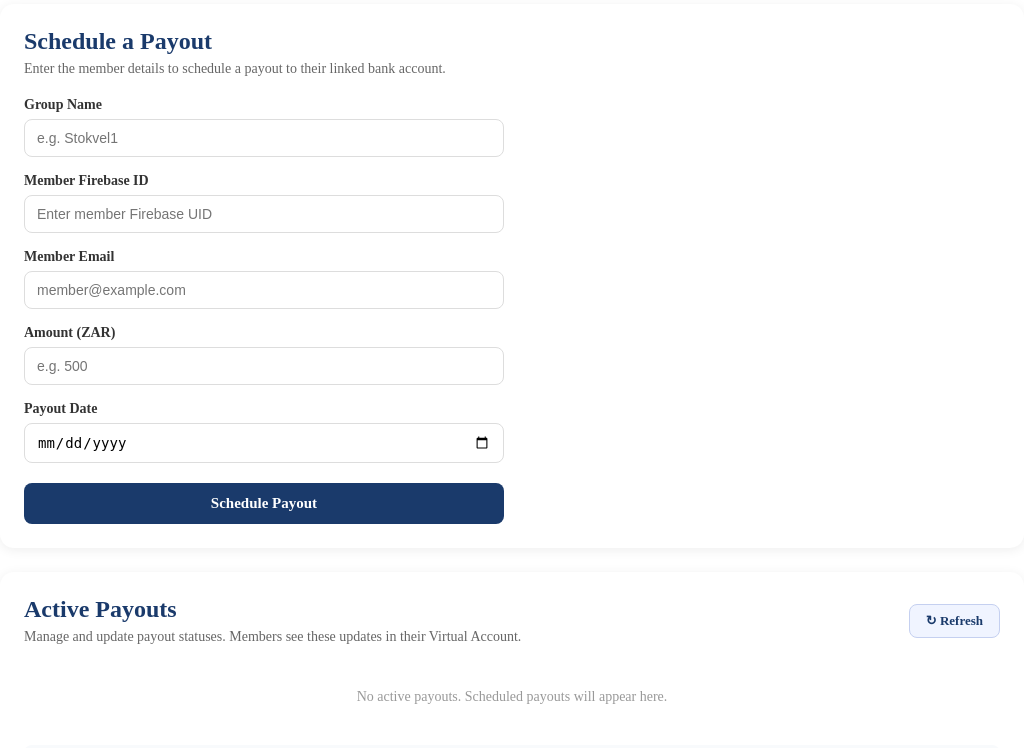
Test: Schedule Payout Component › submits form successfully
Type "G1" into the field with placeholder "e.g. Stokvel1" at [264, 138], box [24, 119, 504, 157]
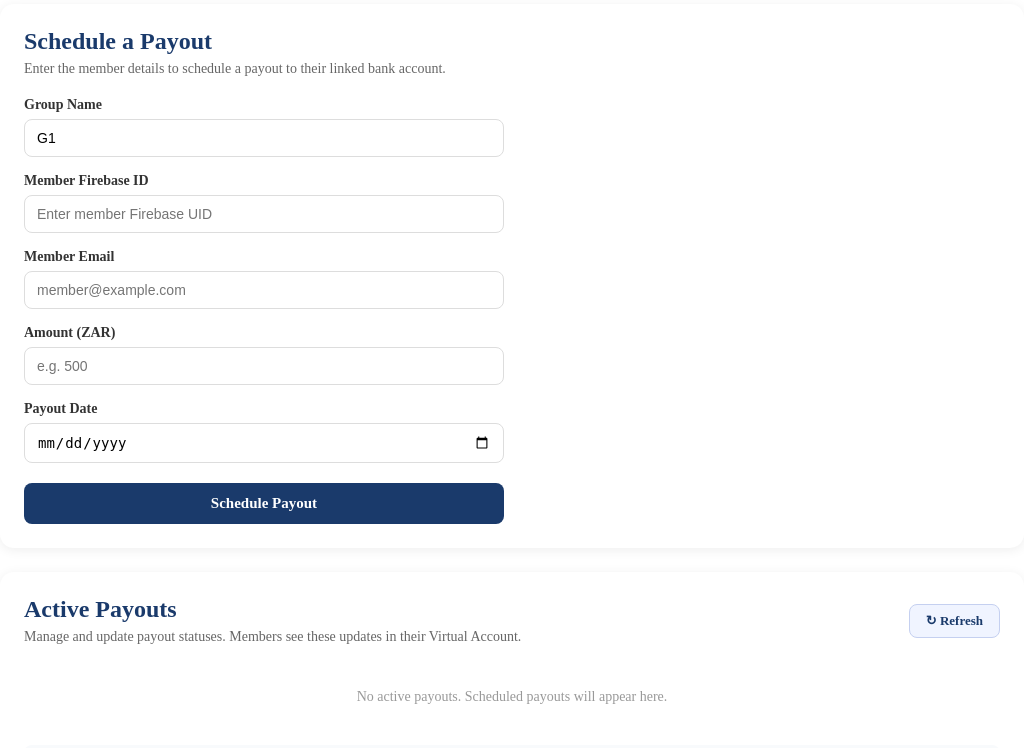
Type "123" into the field with placeholder "Enter member Firebase UID" at [264, 214], box [24, 195, 504, 233]
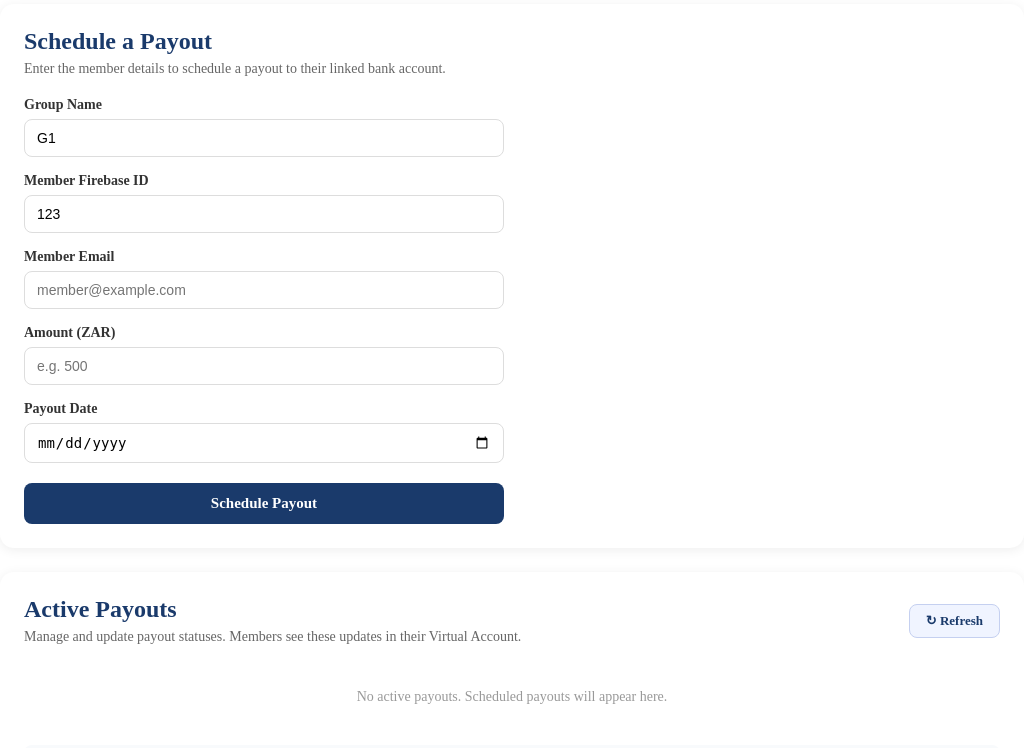
Type "t@t.com" into the field with placeholder "member@example.com" at [264, 290], box [24, 271, 504, 309]
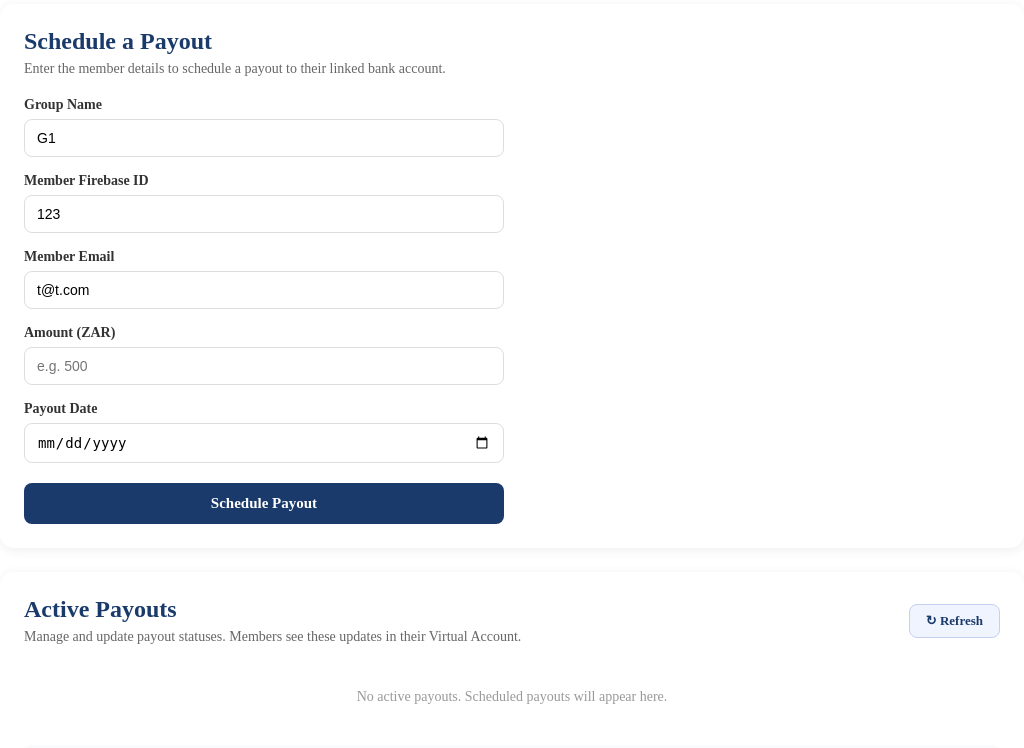
Type "100" into the number field with placeholder "e.g. 500" at [264, 366], box [24, 347, 504, 385]
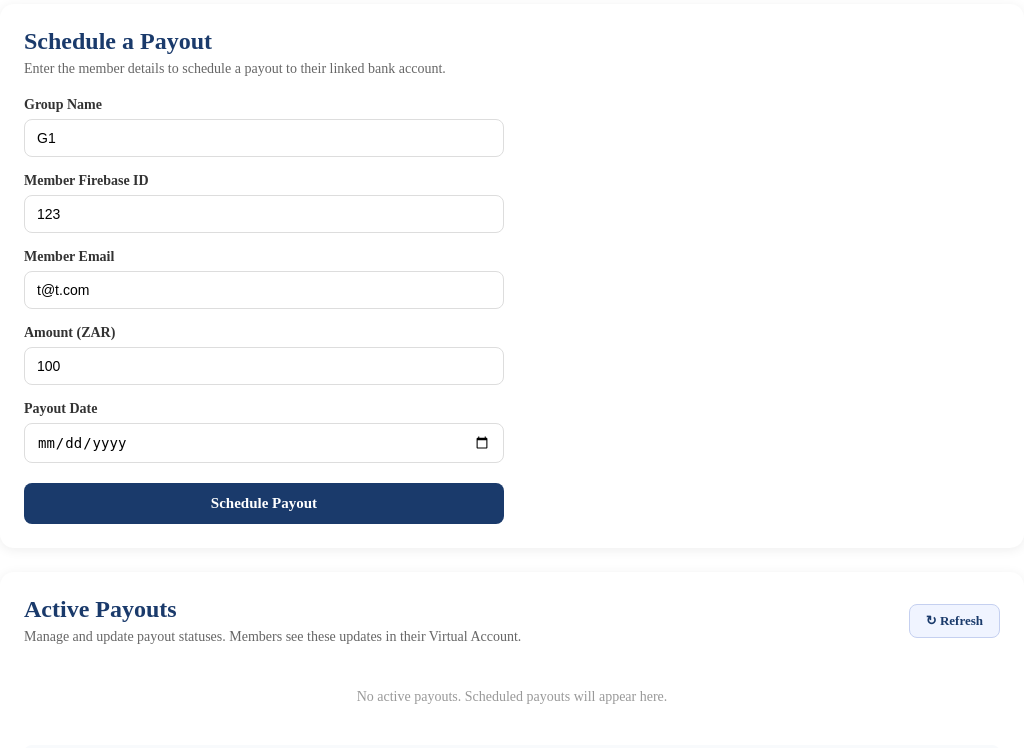
Type "2026-05-25" into the date field labelled "Payout Date" at [264, 443], box [24, 423, 504, 463]
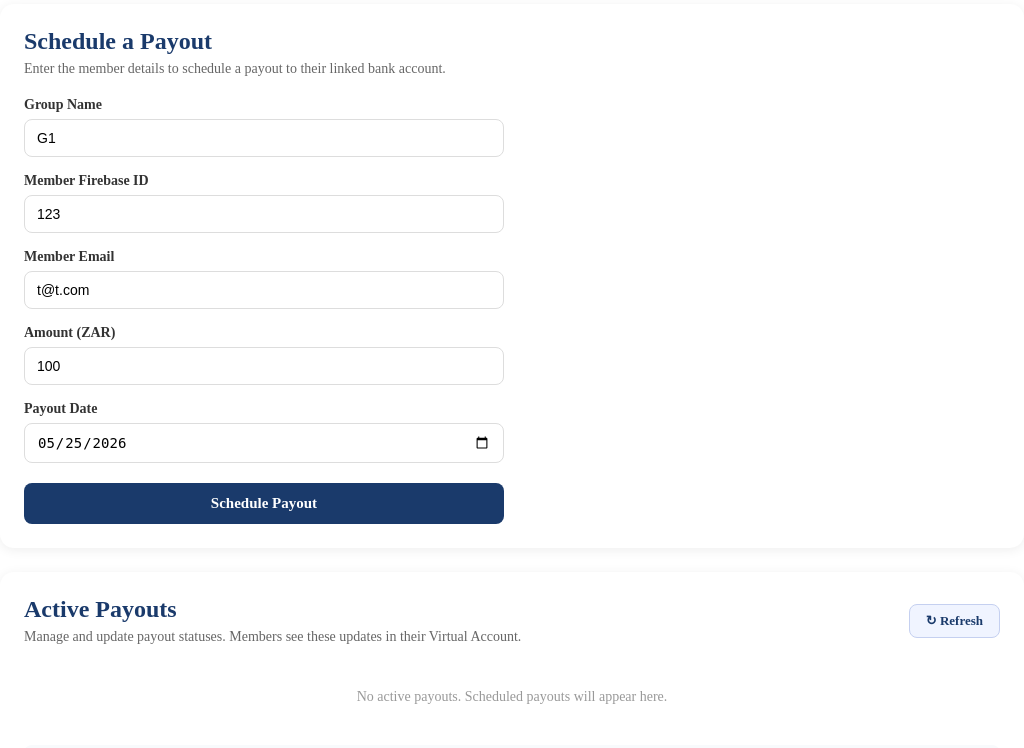
Click the button "Schedule Payout" at [264, 504], box [24, 483, 504, 524]
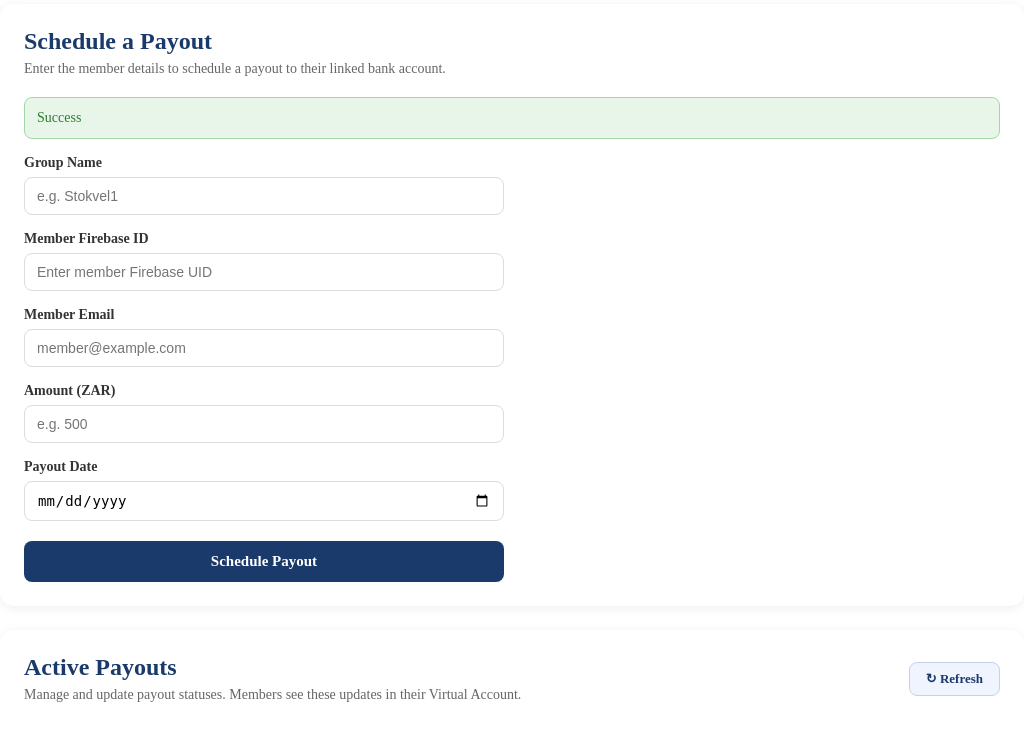
Check: the text "Success" is shown, box [24, 97, 1000, 139]
